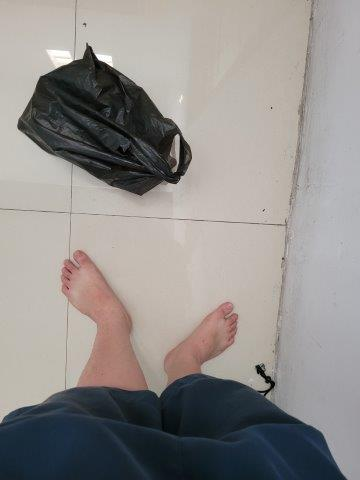plastik: (16, 43, 194, 195)
